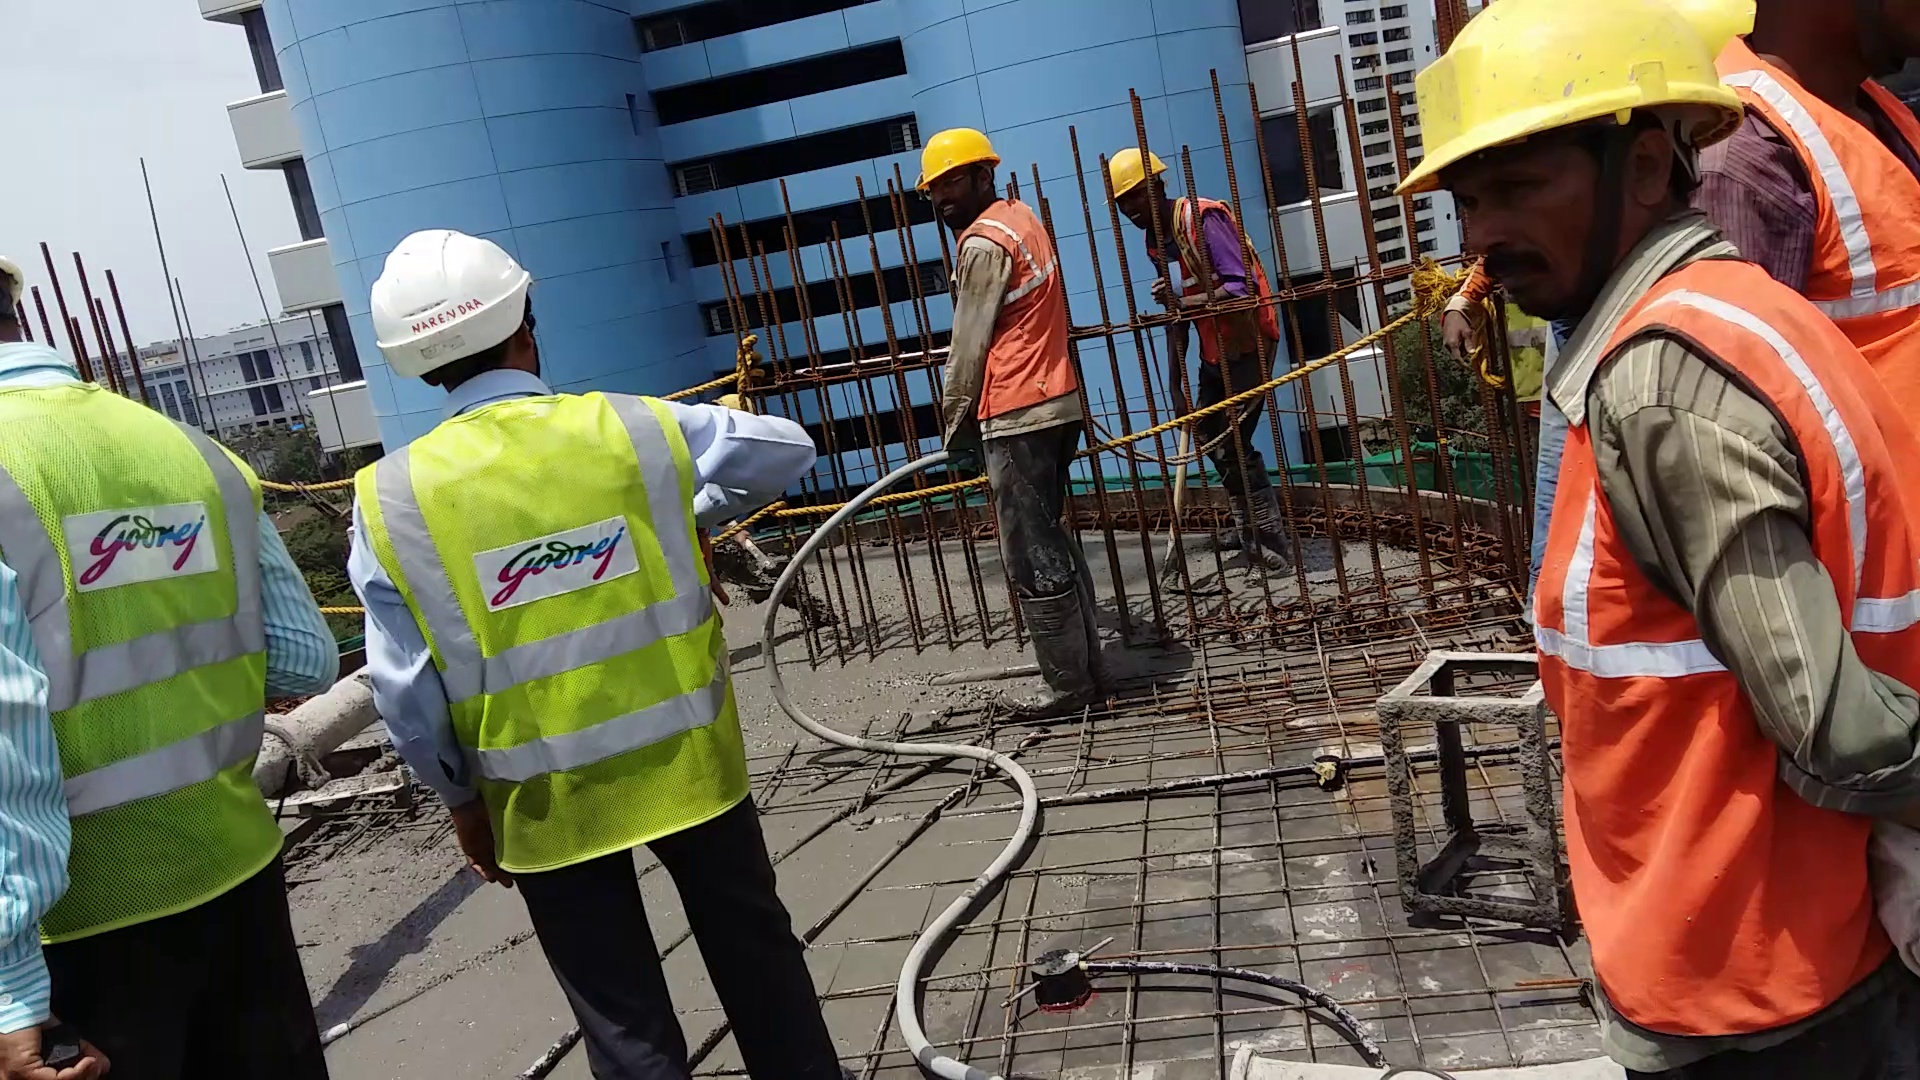SAFE: (1505, 12, 1873, 1030), (386, 219, 712, 861), (916, 123, 1084, 429)
